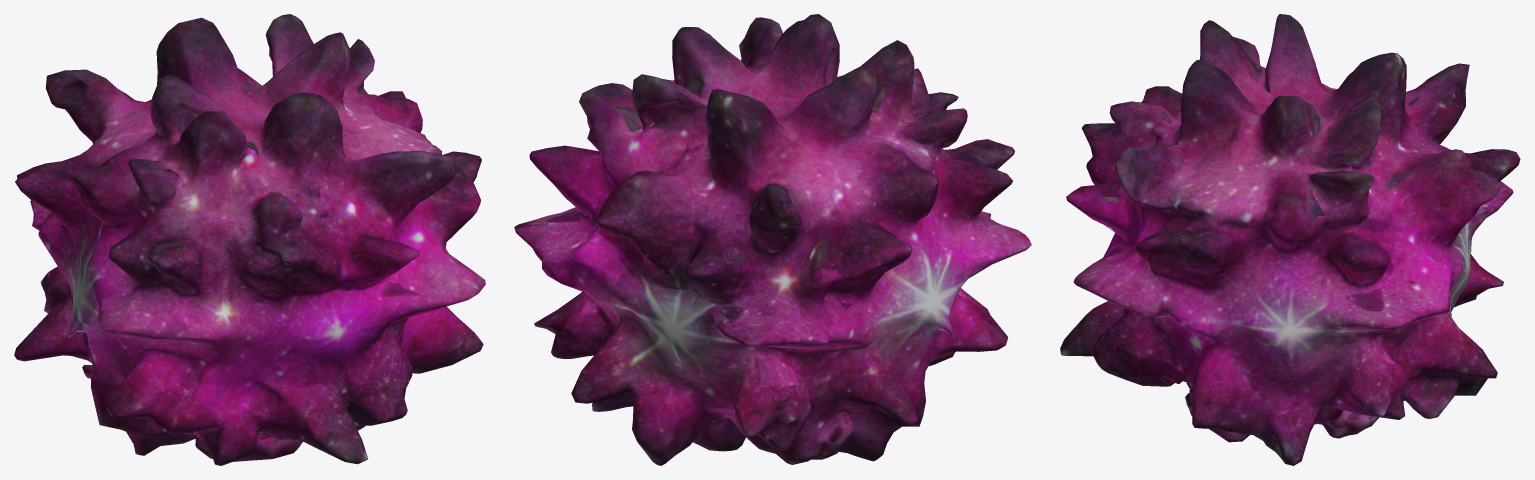
The model's file is a5eb8c9bd28f_a_pink_glowing_gala.fbx.
3 renders of one model, left to right at view 1: azimuth 30°, elevation 25°; view 2: azimuth 150°, elevation 25°; view 3: azimuth 270°, elevation 25°, orthographic. The views are drawn at different scales.
Parts seen in each view (by area): view 1: mesh; view 2: mesh; view 3: mesh.
Boxes of the visible parts, box(x1,y1,x2,y2) form: mesh: box(14, 14, 485, 465); mesh: box(514, 14, 1031, 465); mesh: box(1060, 14, 1520, 465).
Size of the model in its own units: 96.27 by 87.66 by 99.9.
